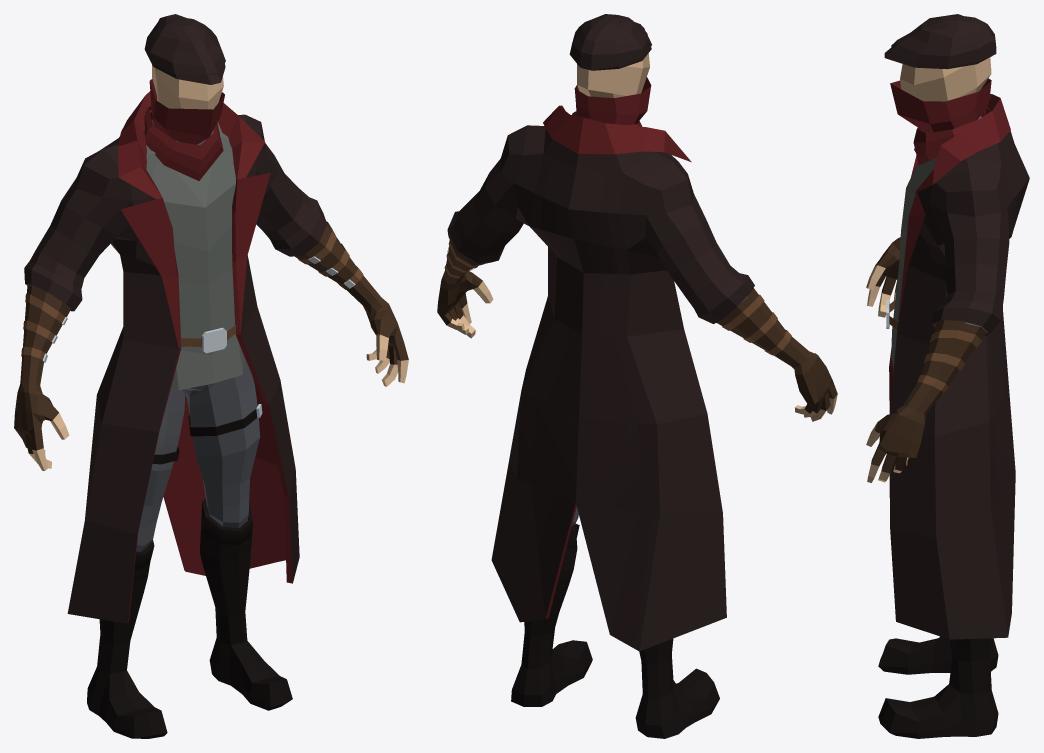
File: Revo_man.fbx
3 renders of one model, left to right at view 1: azimuth 30°, elevation 25°; view 2: azimuth 150°, elevation 25°; view 3: azimuth 270°, elevation 25°, orthographic.
Parts seen in each view (by area): view 1: Gabardina.002, Boots.005, Shirt, Body.016, Hands.004, Hat.002, Neck.002, Neck.003, Belt.008, Belt.004, Belt.006; view 2: Gabardina.002, Boots.005, Hands.004, Hat.002, Body.016, Neck.003, Belt.008; view 3: Gabardina.002, Boots.005, Hands.004, Hat.002, Neck.003, Body.016, Shirt, Neck.002, Belt.008.
Part boxes in pixels (left/top/right/bottom): Gabardina.002: left=24, top=91, right=327, bottom=623; Boots.005: left=87, top=498, right=292, bottom=738; Shirt: left=146, top=122, right=244, bottom=390; Body.016: left=27, top=65, right=260, bottom=551; Hands.004: left=14, top=221, right=408, bottom=470; Hat.002: left=144, top=14, right=225, bottom=84; Neck.002: left=144, top=106, right=223, bottom=180; Neck.003: left=149, top=79, right=224, bottom=144; Belt.008: left=21, top=221, right=363, bottom=362; Belt.004: left=180, top=325, right=236, bottom=353; Belt.006: left=188, top=400, right=262, bottom=436; Gabardina.002: left=447, top=105, right=754, bottom=651; Boots.005: left=511, top=523, right=719, bottom=738; Hands.004: left=437, top=241, right=837, bottom=421; Hat.002: left=569, top=14, right=651, bottom=70; Body.016: left=571, top=53, right=747, bottom=526; Neck.003: left=574, top=77, right=651, bottom=125; Belt.008: left=444, top=240, right=791, bottom=355; Gabardina.002: left=889, top=94, right=1029, bottom=639; Boots.005: left=878, top=636, right=998, bottom=738; Hands.004: left=866, top=237, right=986, bottom=482; Hat.002: left=884, top=14, right=996, bottom=69; Neck.003: left=890, top=78, right=991, bottom=132; Body.016: left=900, top=57, right=991, bottom=333; Shirt: left=891, top=157, right=936, bottom=368; Neck.002: left=913, top=106, right=991, bottom=165; Belt.008: left=917, top=330, right=981, bottom=393.
Bounding box in the file's own units: 276 × 478 × 105.
